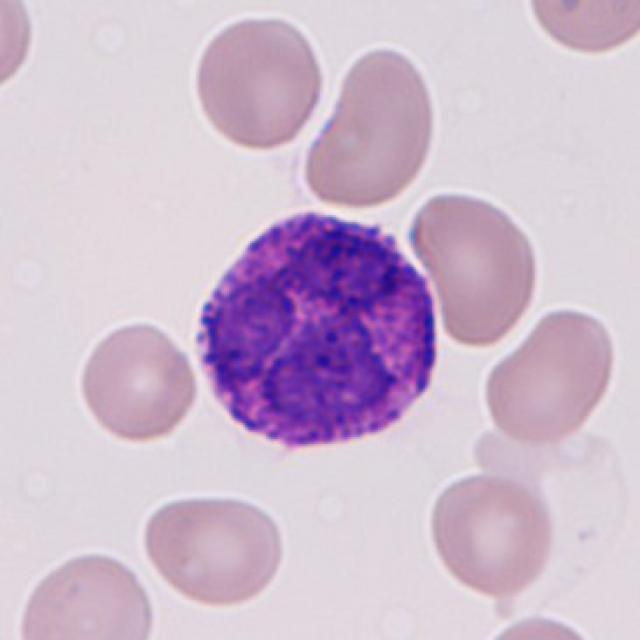Basophil: (184, 196, 453, 467)
RBC: (298, 40, 442, 213), (406, 184, 546, 350), (477, 300, 619, 448), (187, 7, 329, 154), (137, 487, 290, 609), (423, 467, 560, 600), (73, 316, 203, 446), (12, 544, 160, 640), (520, 0, 638, 61), (0, 0, 40, 104), (470, 610, 608, 640)
